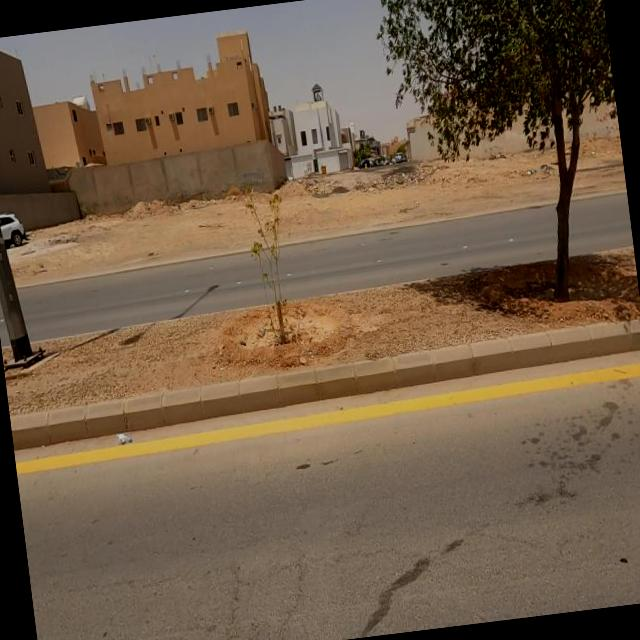debris: (92, 408, 156, 486)
